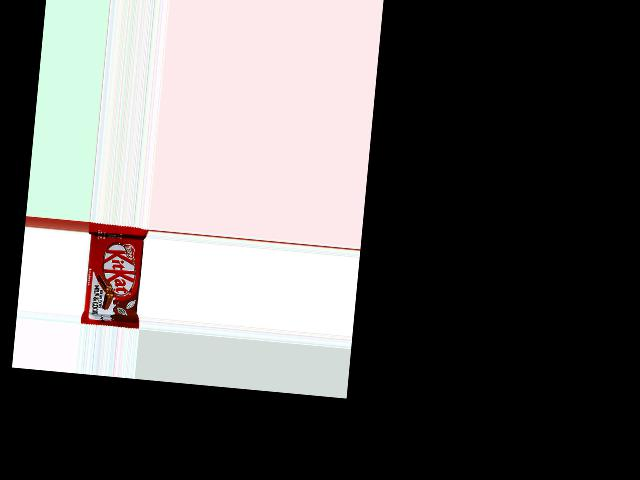chocolate: (79, 222, 148, 330)
